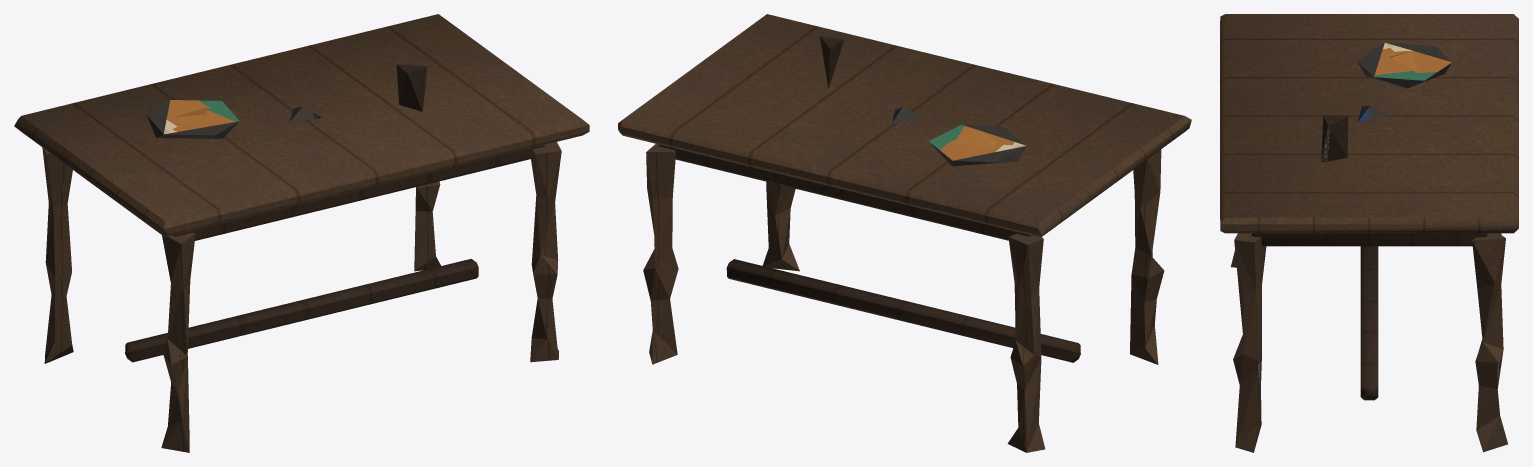
The model's file is table_lod2.glb.
3 renders of one model, left to right at view 1: azimuth 30°, elevation 25°; view 2: azimuth 150°, elevation 25°; view 3: azimuth 270°, elevation 25°, orthographic.
Parts seen in each view (by area): view 1: table; view 2: table; view 3: table.
Part boxes in pixels (x1=…): table: x1=14, y1=14, x2=589, y2=452; table: x1=618, y1=14, x2=1191, y2=452; table: x1=1220, y1=14, x2=1518, y2=452.
Bounding box in the file's own units: 1.4 × 0.883 × 0.85.
Materials: 1 (1 with a texture image).
